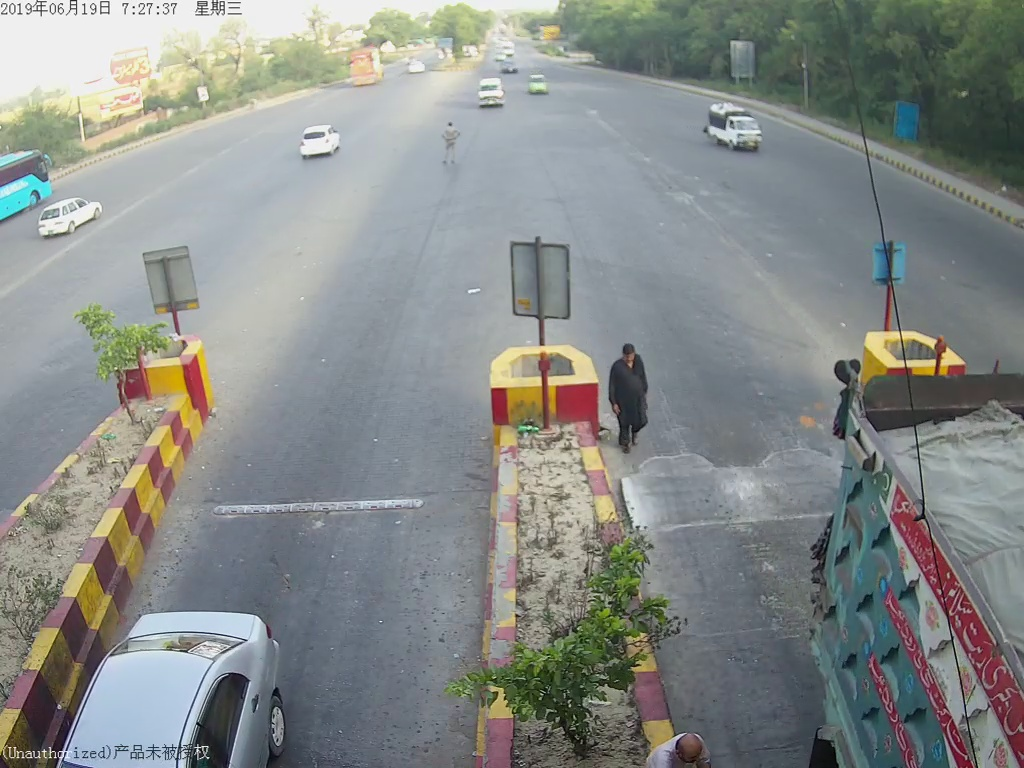Cat-2: (472, 78, 509, 109)
